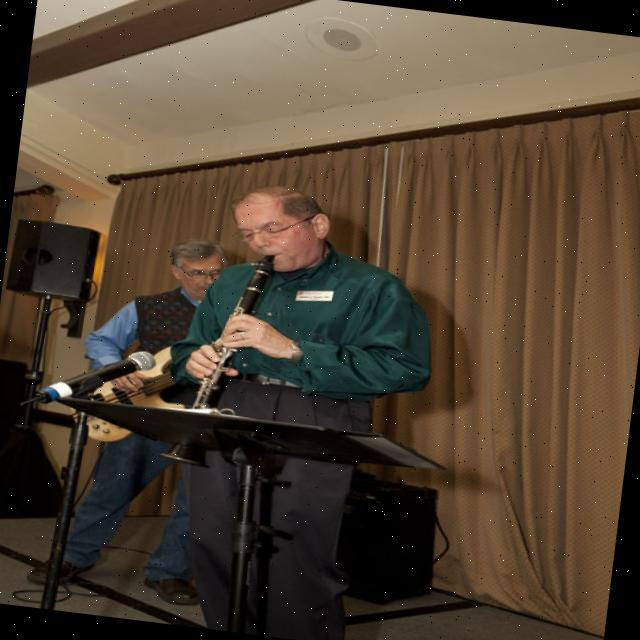clarinet: (153, 243, 282, 479)
